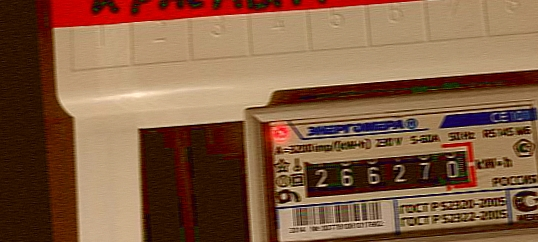0: (443, 157, 457, 179)
2: (312, 166, 327, 188), (391, 161, 404, 183)
6: (338, 166, 352, 187), (364, 164, 378, 184)
7: (416, 159, 430, 181)
screen: (291, 137, 482, 207)
